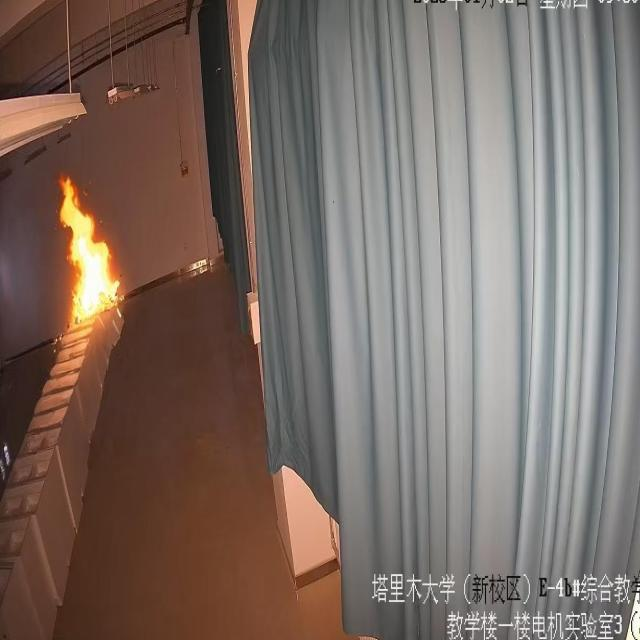smoke: (55, 171, 124, 328)
